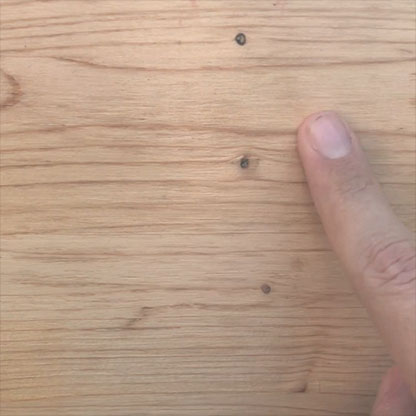fingertip: (289, 103, 369, 174)
